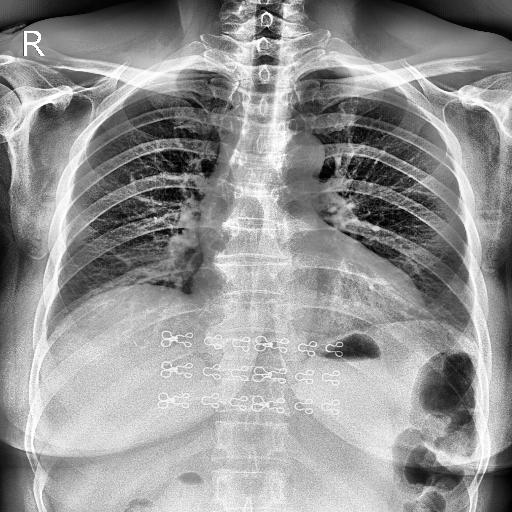0- Aortic enlargement: (272, 131, 324, 181), (268, 132, 323, 176), (268, 134, 326, 174)
3- Cardiomegaly: (186, 264, 424, 324), (191, 272, 429, 324)
